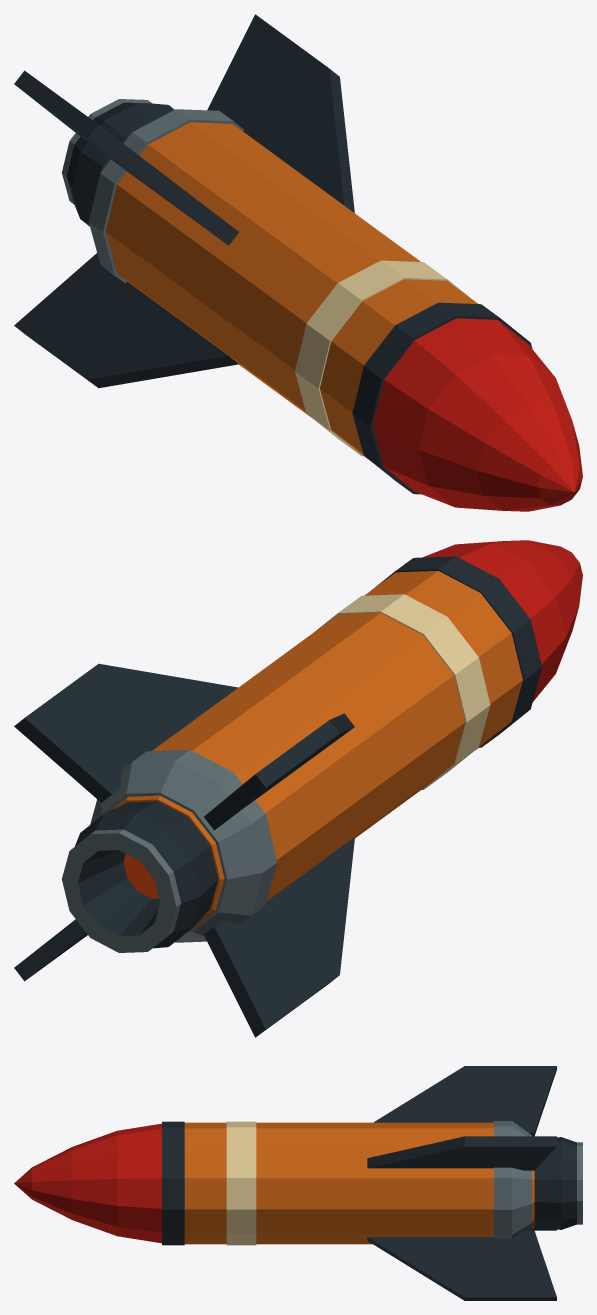
File: PunchBotMissile.obj
3 renders of one model, top to bottom at view 1: azimuth 30°, elevation 25°; view 2: azimuth 150°, elevation 25°; view 3: azimuth 270°, elevation 25°, orthographic. The views are drawn at different scales.
Parts seen in each view (by area): view 1: Fuselage, Warhead, Fin3, Fin1, ForwardBand, WarheadRing, Fin2, RearCollar, Nozzle, NoseTip, NozzleLip; view 2: Fuselage, Fin3, Fin1, RearCollar, Warhead, Nozzle, ForwardBand, NozzleLip, WarheadRing, NozzleInner, Fin2, Fin4 (+1 smaller); view 3: Fuselage, Warhead, Fin4, Fin2, Fin1, ForwardBand, Nozzle, RearCollar, WarheadRing, NozzleLip.
Boxes of the visible parts, left/top/right/bottom form: Fuselage: left=105, top=122, right=477, bottom=459; Warhead: left=373, top=318, right=582, bottom=511; Fin3: left=14, top=253, right=238, bottom=388; Fin1: left=207, top=14, right=354, bottom=212; ForwardBand: left=295, top=260, right=469, bottom=456; WarheadRing: left=352, top=302, right=532, bottom=494; Fin2: left=14, top=70, right=239, bottom=245; RearCollar: left=88, top=109, right=243, bottom=283; Nozzle: left=66, top=102, right=174, bottom=226; NoseTip: left=538, top=458, right=582, bottom=505; NozzleLip: left=62, top=99, right=152, bottom=204; Fuselage: left=111, top=570, right=522, bottom=929; Fin3: left=204, top=837, right=354, bottom=1037; Fin1: left=14, top=663, right=238, bottom=802; RearCollar: left=90, top=749, right=277, bottom=942; Warhead: left=422, top=540, right=582, bottom=701; Nozzle: left=75, top=801, right=218, bottom=948; ForwardBand: left=315, top=594, right=490, bottom=789; NozzleLip: left=62, top=829, right=181, bottom=952; WarheadRing: left=372, top=556, right=542, bottom=747; NozzleInner: left=78, top=850, right=159, bottom=935; Fin2: left=204, top=713, right=354, bottom=830; Fin4: left=14, top=919, right=87, bottom=981; Fuselage: left=184, top=1122, right=534, bottom=1244; Warhead: left=32, top=1123, right=161, bottom=1243; Fin4: left=367, top=1230, right=556, bottom=1300; Fin2: left=373, top=1066, right=556, bottom=1136; Fin1: left=367, top=1136, right=556, bottom=1170; ForwardBand: left=226, top=1121, right=256, bottom=1245; Nozzle: left=534, top=1137, right=576, bottom=1229; RearCollar: left=494, top=1121, right=531, bottom=1238; WarheadRing: left=162, top=1121, right=184, bottom=1245; NozzleLip: left=577, top=1142, right=582, bottom=1224.
Bounding box in the file's own units: 0.2022 × 0.2022 × 0.634.
